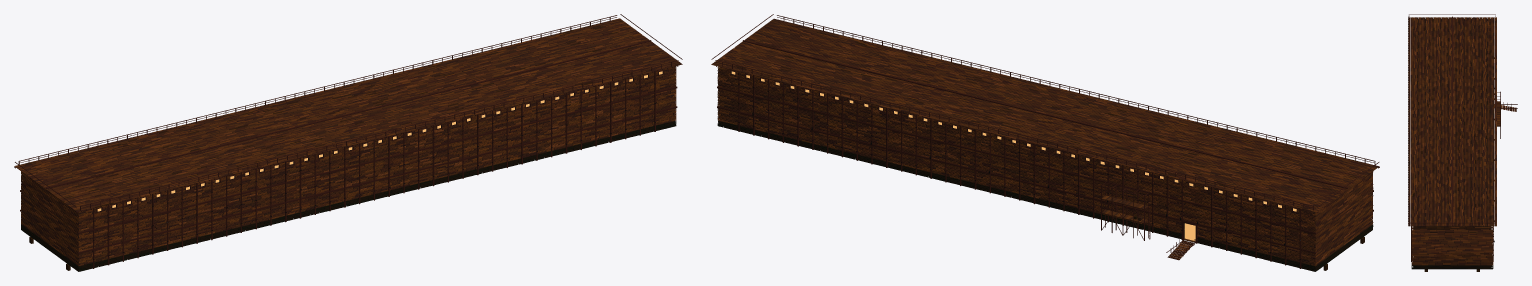
The model's file is ark.glb.
3 views of the same model, side by side, from view 1: azimuth 30°, elevation 25°; view 2: azimuth 150°, elevation 25°; view 3: azimuth 270°, elevation 25° (orthographic). The views are drawn at different scales.
Parts seen in each view (by area): view 1: hull, glow; view 2: hull, glow; view 3: hull.
Boxes of the visible parts, x1,y1,x2,y2 form: hull: (14,14,682,271); glow: (97,71,662,211); hull: (711,14,1379,271); glow: (731,71,1296,240); hull: (1408,14,1517,271).
Size of the model in its own units: 135 by 15.62 by 30.04.
